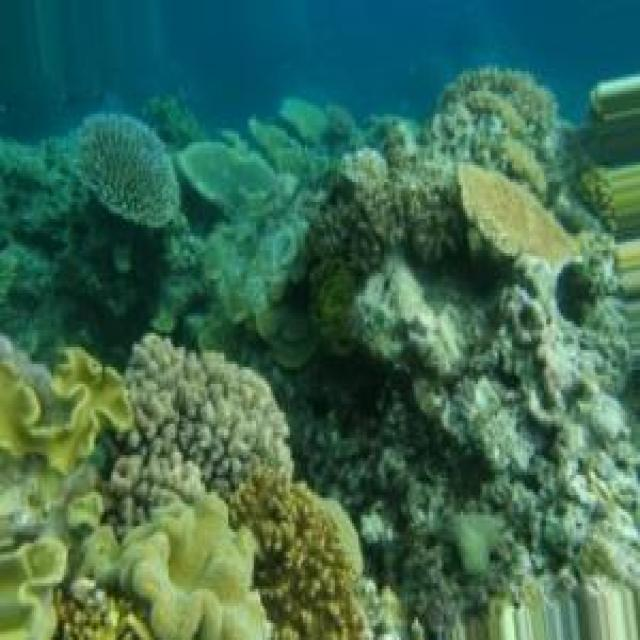bleached coral: (275, 384, 471, 640), (361, 270, 533, 478), (365, 162, 544, 296), (553, 375, 640, 606), (542, 253, 634, 398)
healthy coral: (126, 336, 297, 558), (175, 134, 335, 324), (13, 114, 183, 287), (36, 449, 128, 600)
